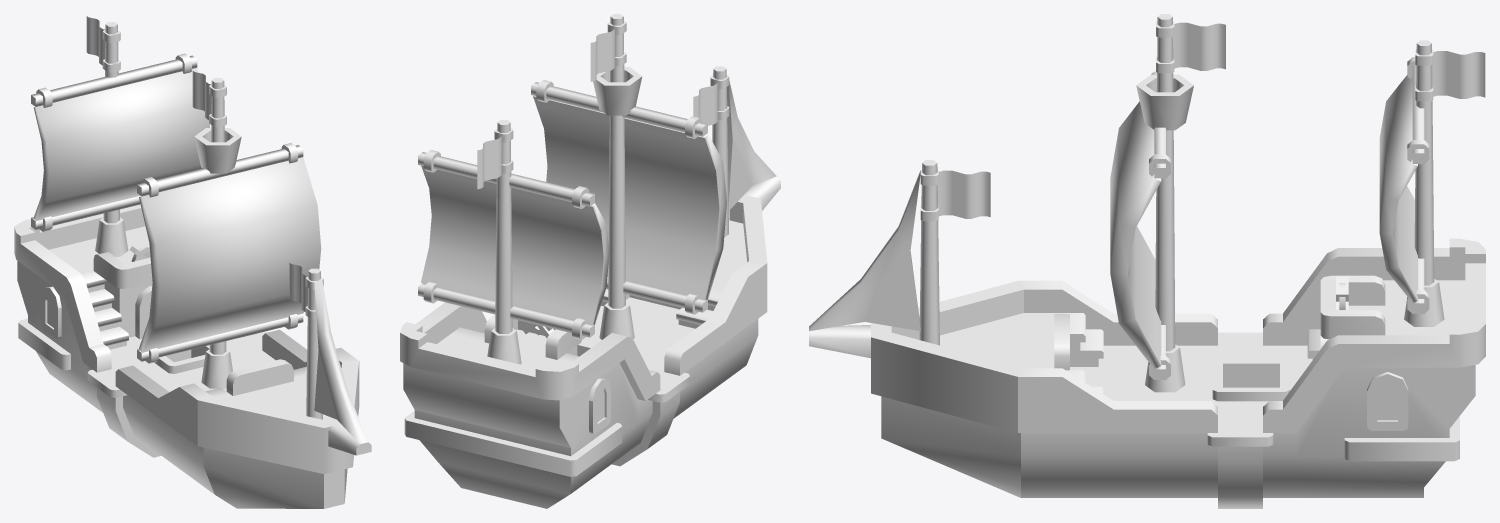
Rendered from ship-large.glb.
3 renders of one model, left to right at view 1: azimuth 30°, elevation 25°; view 2: azimuth 150°, elevation 25°; view 3: azimuth 270°, elevation 25°, orthographic. The views are drawn at different scales.
Parts seen in each view (by area): view 1: ship-large, sail-a, sail-b, flag-b, flag-c, flag-a; view 2: ship-large, sail-a, sail-b, flag-b, flag-c, flag-a; view 3: ship-large, sail-a, sail-b, flag-a, flag-c, flag-b.
Part boxes in pixels (x1,y1,x2,y2): ship-large: (14, 22, 371, 508); sail-a: (137, 143, 321, 363); sail-b: (31, 53, 210, 231); flag-b: (192, 70, 226, 127); flag-c: (86, 16, 120, 72); flag-a: (289, 262, 323, 319); ship-large: (400, 14, 780, 508); sail-a: (531, 80, 726, 314); sail-b: (418, 150, 609, 339); flag-b: (590, 21, 626, 81); flag-c: (477, 128, 513, 189); flag-a: (693, 75, 729, 125); ship-large: (809, 14, 1485, 508); sail-a: (1110, 71, 1170, 379); sail-b: (1379, 57, 1429, 313); flag-a: (920, 169, 990, 221); flag-c: (1415, 49, 1485, 101); flag-b: (1156, 21, 1225, 73).
Bounding box in the file's own units: 4.8 × 9.96 × 13.1.
Materials: 1 (1 with a texture image).
